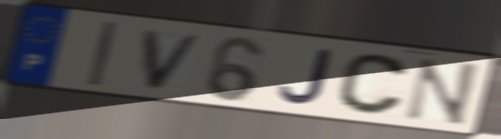6: (202, 33, 265, 104)
C: (334, 52, 411, 118)
I: (86, 19, 121, 89)
J: (276, 47, 334, 107)
N: (401, 56, 483, 128)
V: (140, 28, 208, 93)
